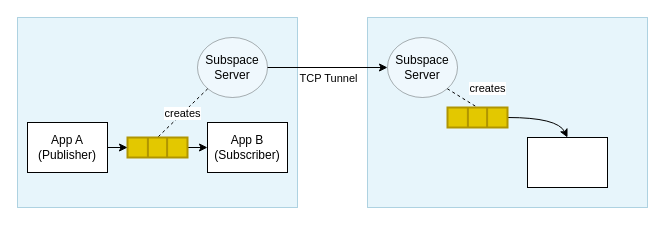
This 665x225 diagram has some shape labels left out. Each missing label, with the centre of its shape:
App C (Subscriber): the point at 567,162
Channel: the point at 157,147
